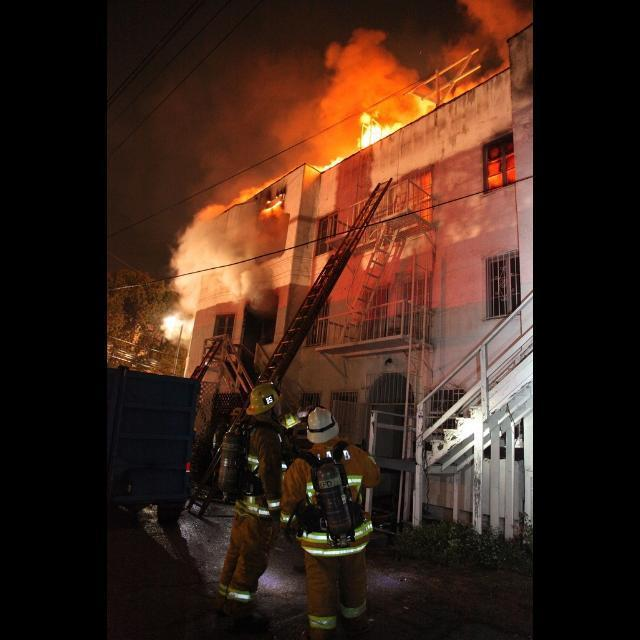Fire: (316, 98, 436, 174), (162, 310, 195, 340), (488, 156, 516, 188)
Smoke: (170, 1, 532, 316)
